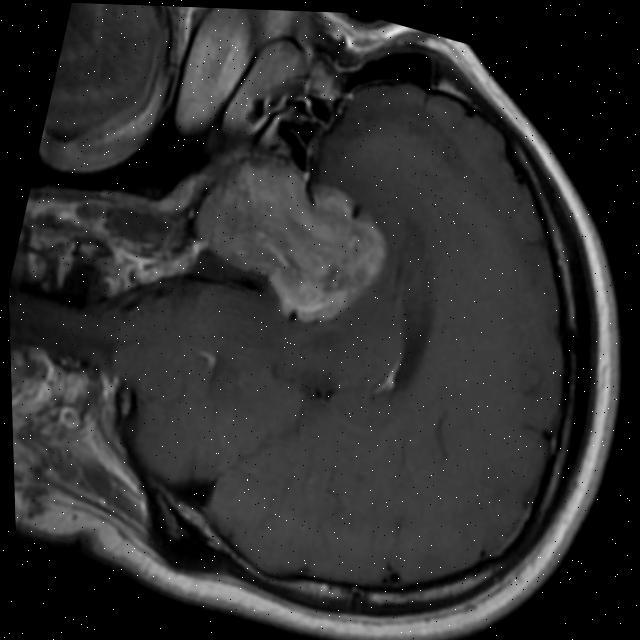Pituitary: (176, 150, 400, 340)
